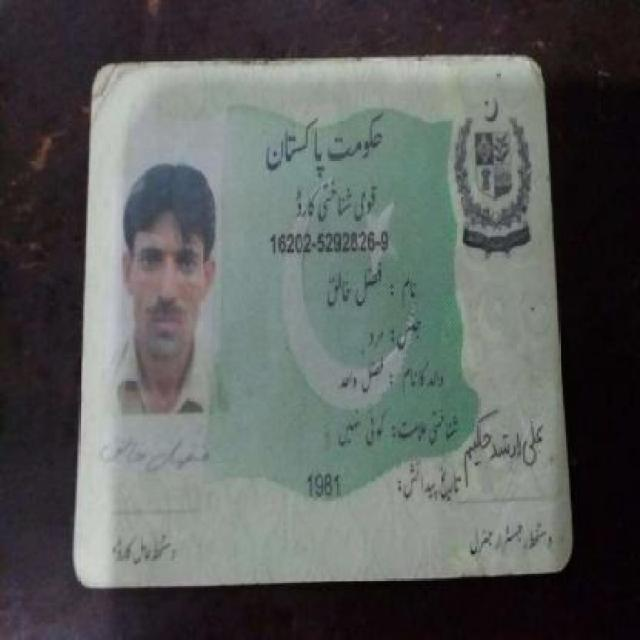Front: (72, 38, 576, 577)
